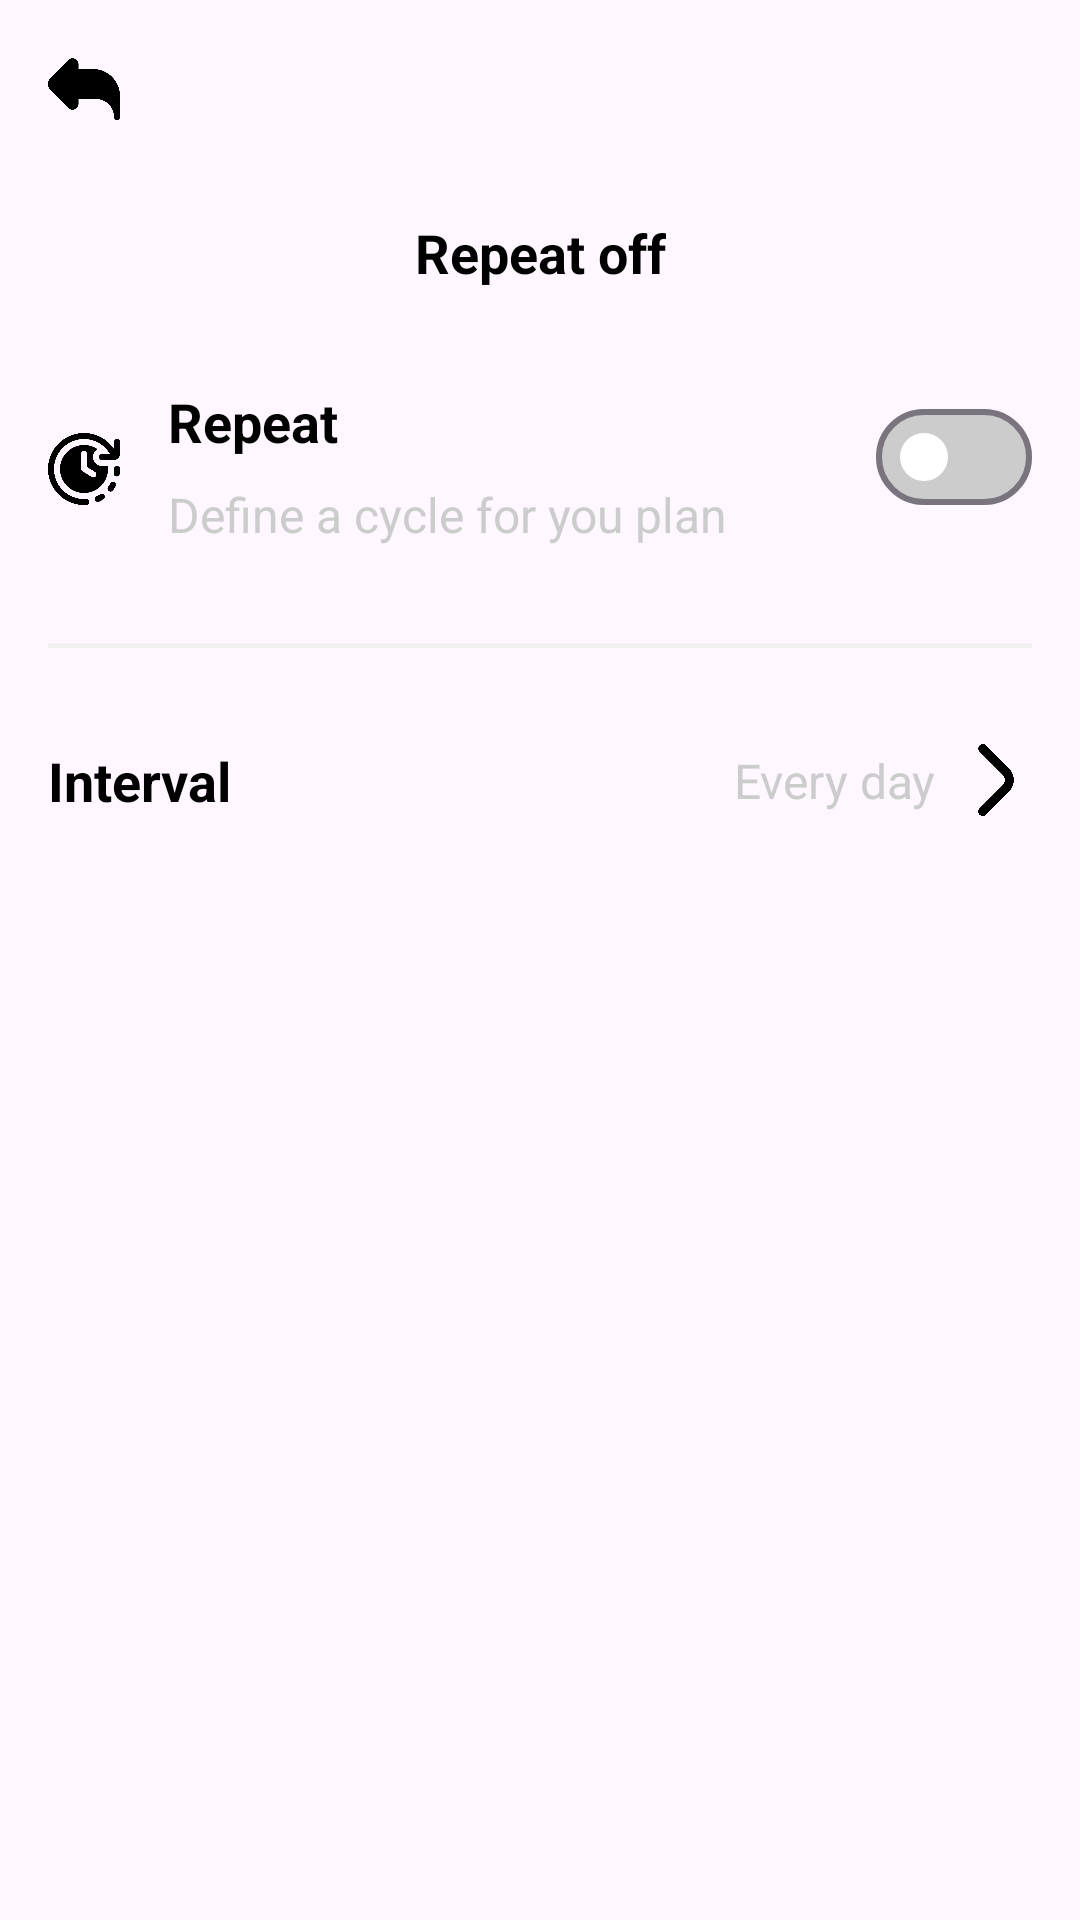

Screen size 1080px x 1920px. Icon name, then its center in pixels as [x,y]:
angle: [996,780]
back: [84,89]
Time: [84,469]
